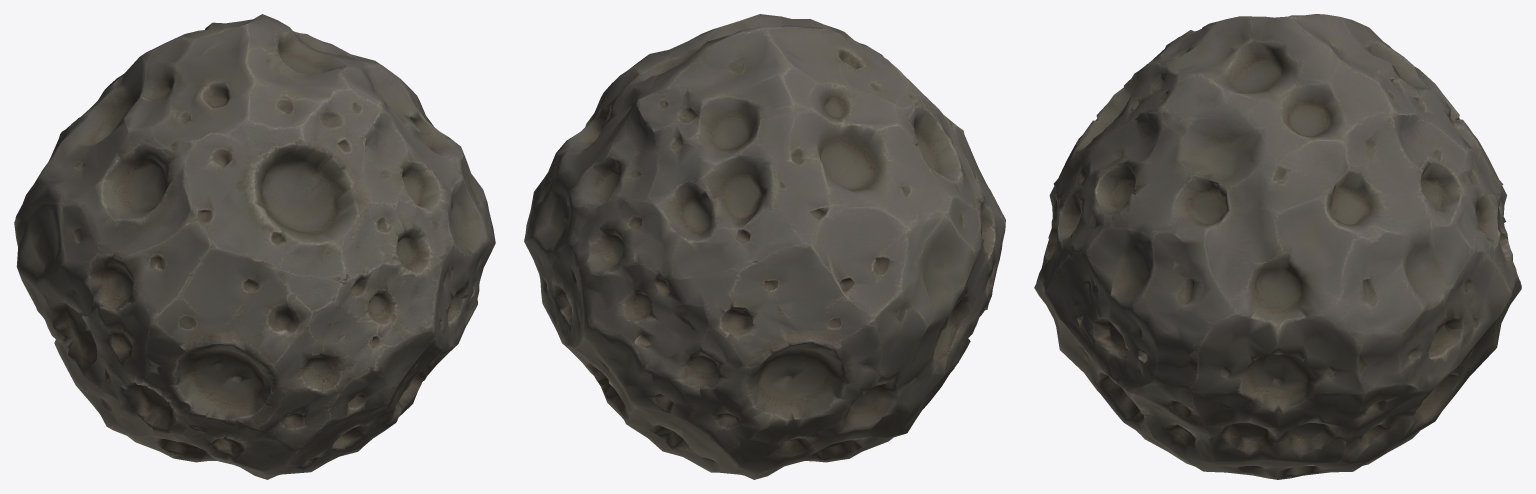
Rendered from runtime_high_01.glb.
The picture shows the model from 3 angles, left to right: view 1: azimuth 30°, elevation 25°; view 2: azimuth 150°, elevation 25°; view 3: azimuth 270°, elevation 25°; orthographic projection. The views are drawn at different scales.
Parts seen in each view (by area): view 1: tripo_node_ba6f2f0a-fac1-4dcc-91d5-da85ac36884d; view 2: tripo_node_ba6f2f0a-fac1-4dcc-91d5-da85ac36884d; view 3: tripo_node_ba6f2f0a-fac1-4dcc-91d5-da85ac36884d.
Part boxes in pixels (bbox=[...]): tripo_node_ba6f2f0a-fac1-4dcc-91d5-da85ac36884d: bbox=[14, 14, 495, 479]; tripo_node_ba6f2f0a-fac1-4dcc-91d5-da85ac36884d: bbox=[524, 14, 1005, 479]; tripo_node_ba6f2f0a-fac1-4dcc-91d5-da85ac36884d: bbox=[1034, 14, 1521, 479].
Size of the model in its own units: 0.9713 by 0.9544 by 0.9824.
Materials: 1 (1 with a texture image).
